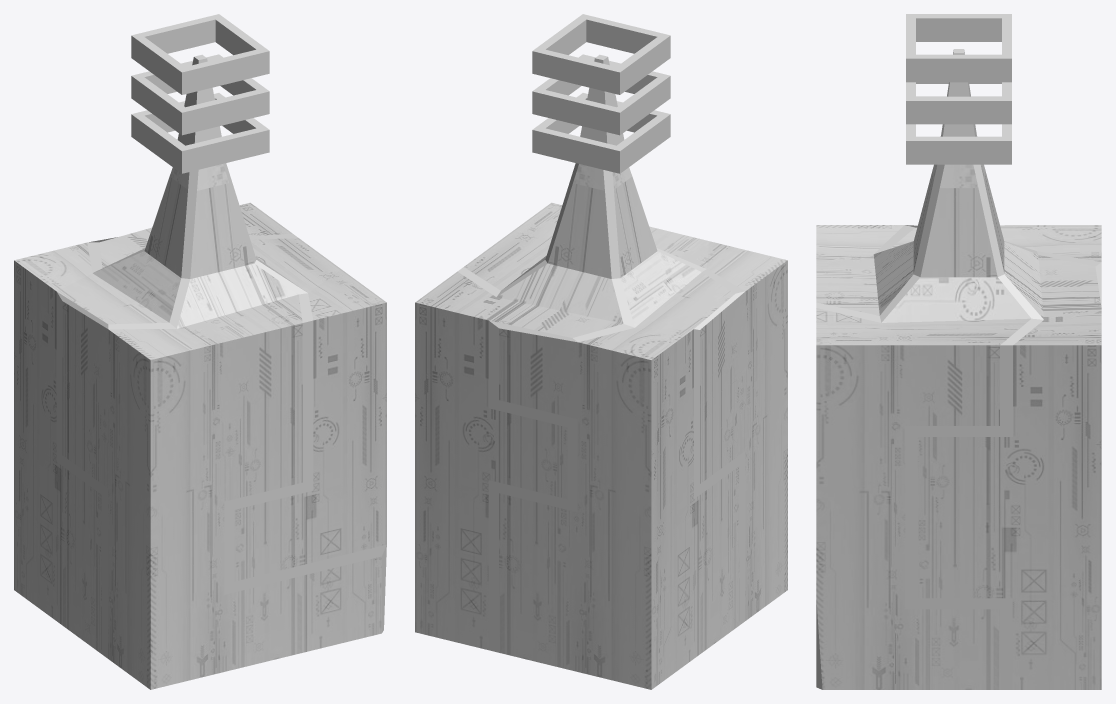
File: Block10.fbx
3 views of the same model, side by side, from view 1: azimuth 30°, elevation 25°; view 2: azimuth 150°, elevation 25°; view 3: azimuth 270°, elevation 25° (orthographic). The views are drawn at different scales.
Visible parts, largest first — view 1: Cube.009; view 2: Cube.009; view 3: Cube.009.
Part boxes in pixels (x1,y1,x2,y2): Cube.009: (14,14,386,689); Cube.009: (415,14,787,689); Cube.009: (816,14,1101,689).
Size of the model in its own units: 200 by 200 by 459.
